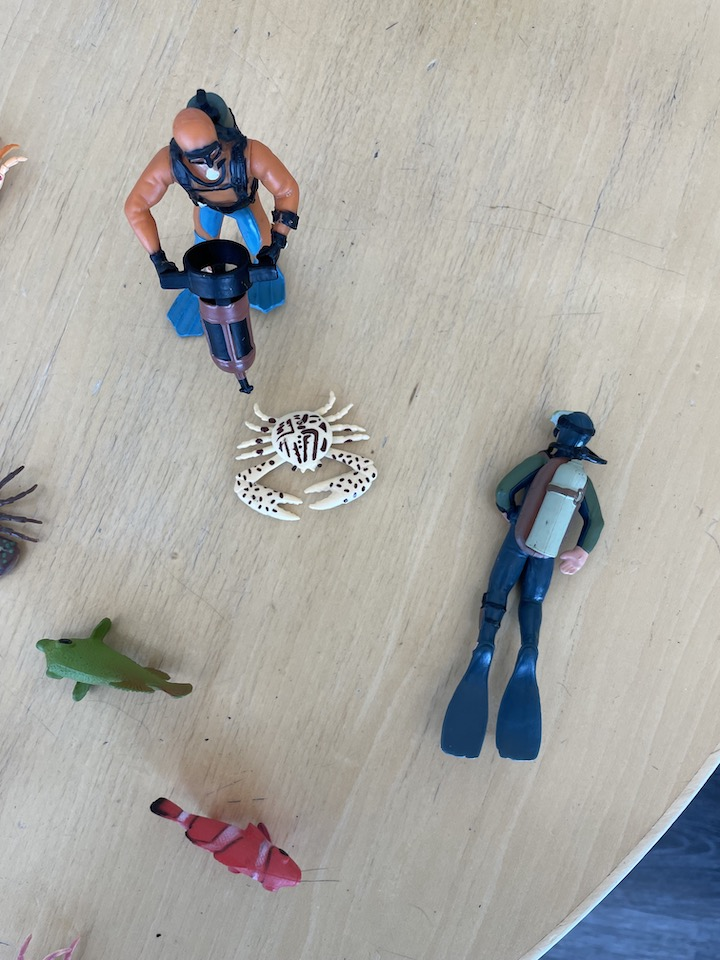crab: (231, 389, 379, 525), (1, 458, 41, 576), (1, 133, 29, 195)
diver: (439, 409, 611, 761), (122, 87, 303, 398)
fish: (148, 795, 305, 895), (35, 617, 195, 705)
